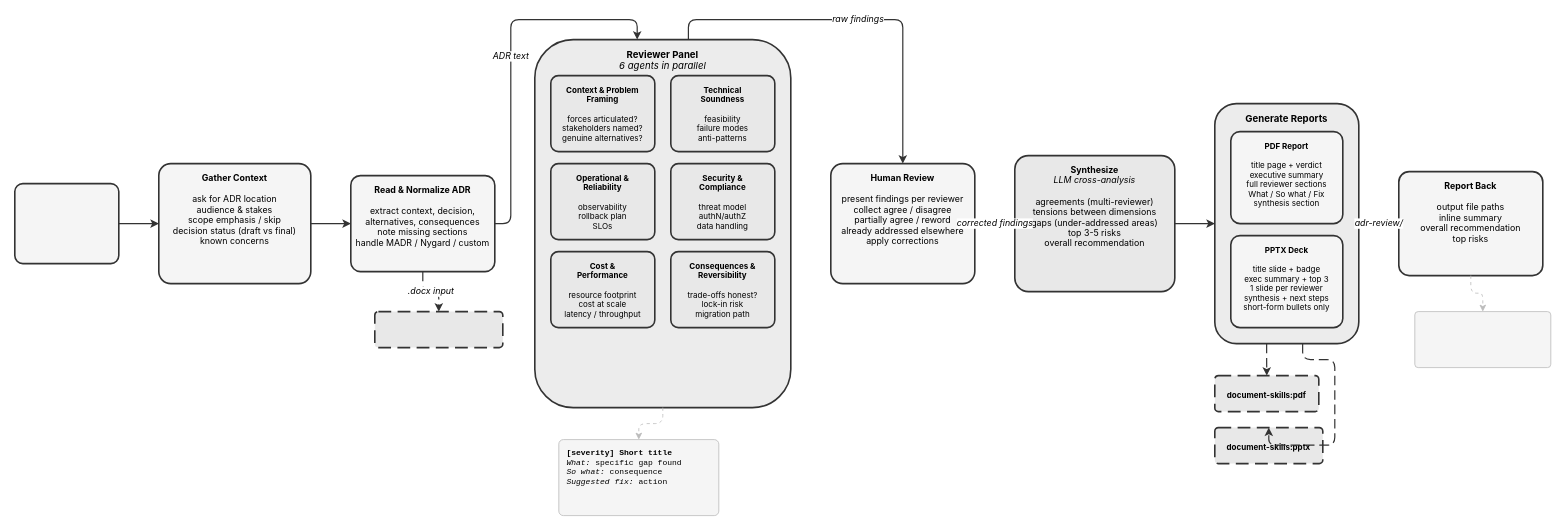
The diagram is 1565 pixels wide and 530 high, and some of its shapes have lost their labels. Here are the shapes that lost their labels. From the top down, the centre of each, then its label:
At [66,223]: "/adr-review ADR file path .md, .docx, or directory".
At [438,329]: "document-skills:docx".
At [1482,339]: "adr-review/ {name}-review.pdf {name}-review.pptx".
